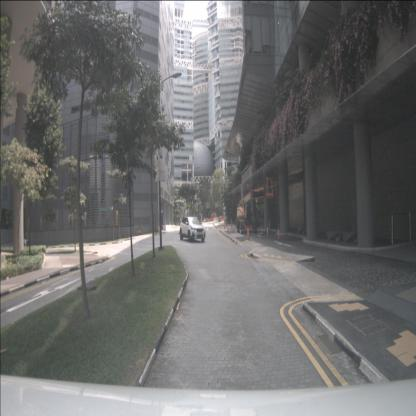cone: (276, 227, 280, 239), (247, 227, 250, 239), (231, 224, 234, 234), (266, 226, 269, 236), (227, 225, 229, 232)
